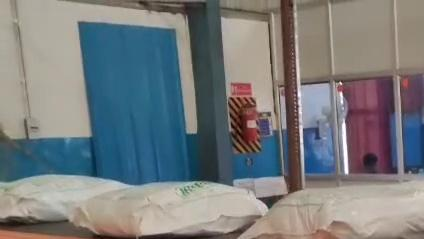box: (71, 181, 267, 239), (236, 182, 424, 239), (0, 174, 128, 223)
